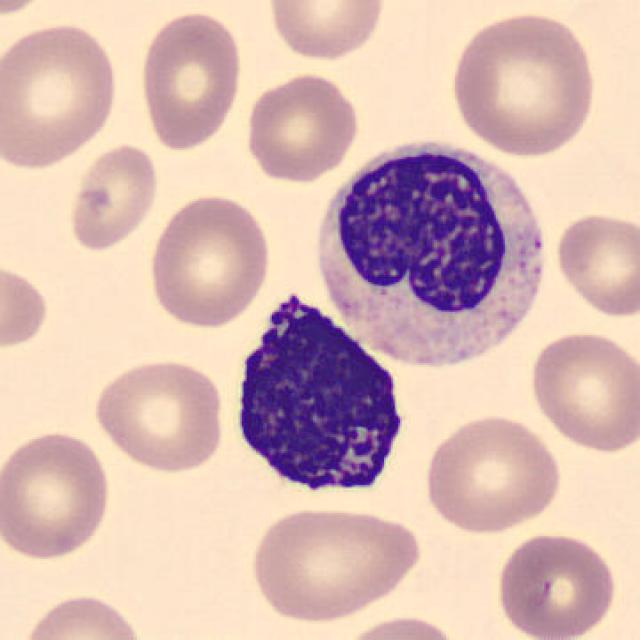Basophil: (222, 282, 414, 508)
Monocyte: (306, 127, 556, 381)
RBC: (446, 7, 601, 159), (244, 503, 426, 624), (0, 18, 121, 172), (420, 409, 566, 536), (144, 190, 274, 332), (89, 354, 227, 476), (135, 7, 247, 153), (0, 427, 114, 562), (490, 527, 620, 640), (524, 328, 638, 455), (242, 71, 362, 185), (64, 139, 162, 254), (551, 208, 638, 319), (263, 0, 387, 63), (16, 589, 149, 640), (0, 260, 52, 354), (336, 612, 468, 640), (0, 0, 60, 19)
